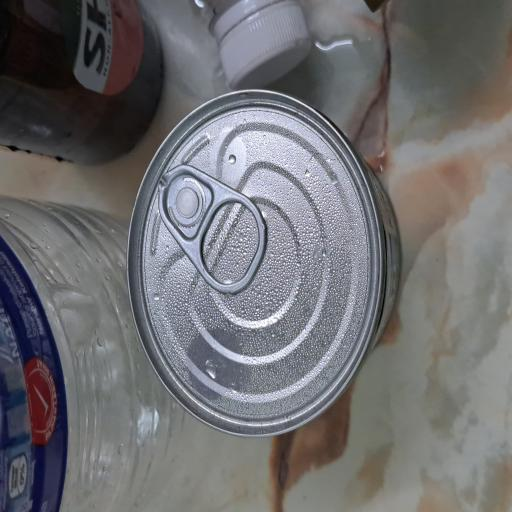can: (56, 169, 318, 512)
glass bottle: (258, 0, 384, 220)
plastic bottle: (0, 0, 236, 251)
plastic bottle cap: (320, 291, 384, 417)
pop tab: (164, 210, 261, 356)
